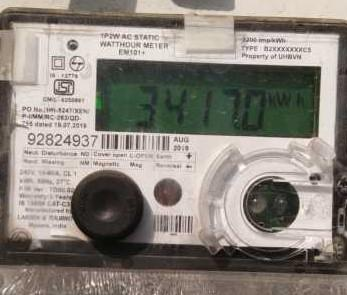.: (267, 88, 308, 113)
1: (240, 86, 268, 132)
2: (201, 87, 216, 127)
4: (129, 83, 160, 126)
5: (165, 85, 188, 127)
8: (222, 87, 243, 129)
